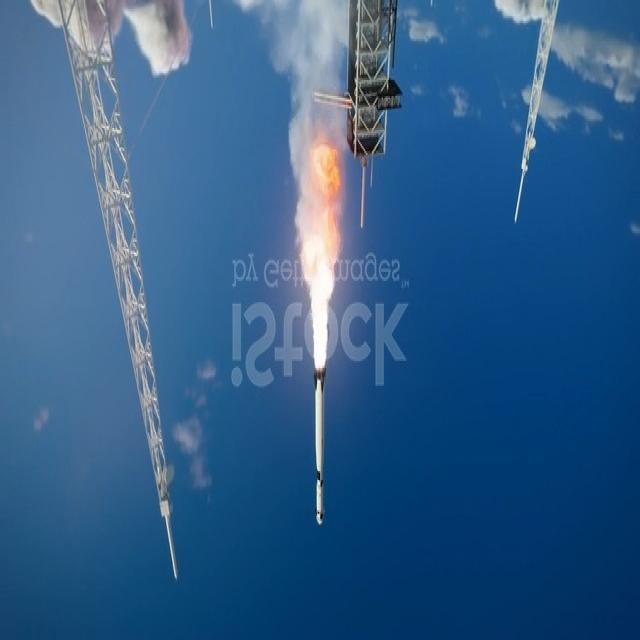Missile: (309, 354, 332, 532)
